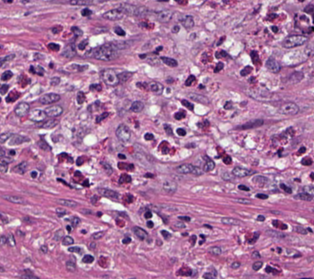nucleus: (86, 42, 125, 60), (176, 163, 203, 175), (249, 87, 272, 101), (100, 69, 119, 85), (236, 119, 263, 129), (115, 124, 130, 141), (188, 93, 209, 104), (29, 109, 46, 122), (39, 93, 59, 104), (232, 167, 254, 177), (266, 57, 280, 72), (14, 102, 29, 116), (97, 188, 118, 198), (45, 105, 62, 117), (38, 118, 58, 128), (148, 81, 163, 94), (9, 134, 28, 144), (2, 195, 25, 203), (162, 180, 176, 193), (132, 226, 146, 239), (202, 156, 214, 171), (160, 56, 177, 66), (57, 199, 77, 207), (62, 45, 75, 57), (0, 54, 13, 66), (6, 90, 19, 102), (14, 161, 27, 173), (253, 175, 267, 186), (221, 217, 240, 225), (130, 101, 143, 112), (101, 162, 112, 174), (177, 266, 191, 275), (0, 132, 11, 143), (67, 64, 87, 70), (118, 162, 133, 170), (250, 51, 259, 64), (30, 66, 43, 75), (118, 72, 131, 81), (273, 220, 286, 229), (181, 100, 193, 109), (96, 112, 108, 121), (119, 174, 131, 183), (268, 230, 283, 237), (21, 271, 36, 278), (185, 75, 195, 85), (240, 66, 251, 75), (1, 71, 12, 80), (174, 110, 185, 119), (38, 140, 49, 149), (62, 236, 73, 245), (210, 246, 221, 255), (98, 256, 107, 267), (0, 158, 7, 172), (76, 91, 84, 103), (234, 198, 250, 204), (91, 231, 103, 239), (214, 62, 223, 72), (70, 216, 79, 226), (66, 261, 75, 271), (252, 261, 262, 270), (160, 142, 168, 153), (82, 254, 93, 262), (215, 50, 227, 57), (78, 40, 87, 49), (250, 232, 259, 241), (0, 84, 8, 94), (164, 124, 172, 134), (74, 171, 82, 181), (56, 208, 66, 216), (54, 230, 62, 240), (68, 246, 81, 252), (48, 43, 59, 50), (265, 266, 276, 273), (50, 77, 59, 85), (222, 172, 231, 180), (161, 230, 170, 238), (203, 272, 215, 278), (7, 235, 14, 245), (90, 84, 101, 90), (124, 194, 132, 202), (144, 133, 153, 140), (238, 184, 248, 190), (177, 128, 185, 135), (223, 156, 231, 163), (116, 219, 124, 226), (1, 214, 7, 223), (179, 216, 189, 221), (217, 37, 224, 44), (224, 102, 232, 108), (76, 157, 82, 165), (122, 237, 130, 243), (251, 251, 259, 257), (231, 262, 239, 268), (256, 194, 267, 198), (82, 179, 88, 186), (145, 211, 151, 218), (1, 235, 6, 243), (31, 171, 37, 177), (147, 221, 153, 227), (91, 196, 96, 203), (257, 215, 264, 220), (145, 173, 153, 177), (41, 246, 46, 252), (118, 154, 125, 158), (191, 236, 195, 243), (9, 150, 14, 155), (66, 226, 70, 230), (97, 212, 101, 215)
